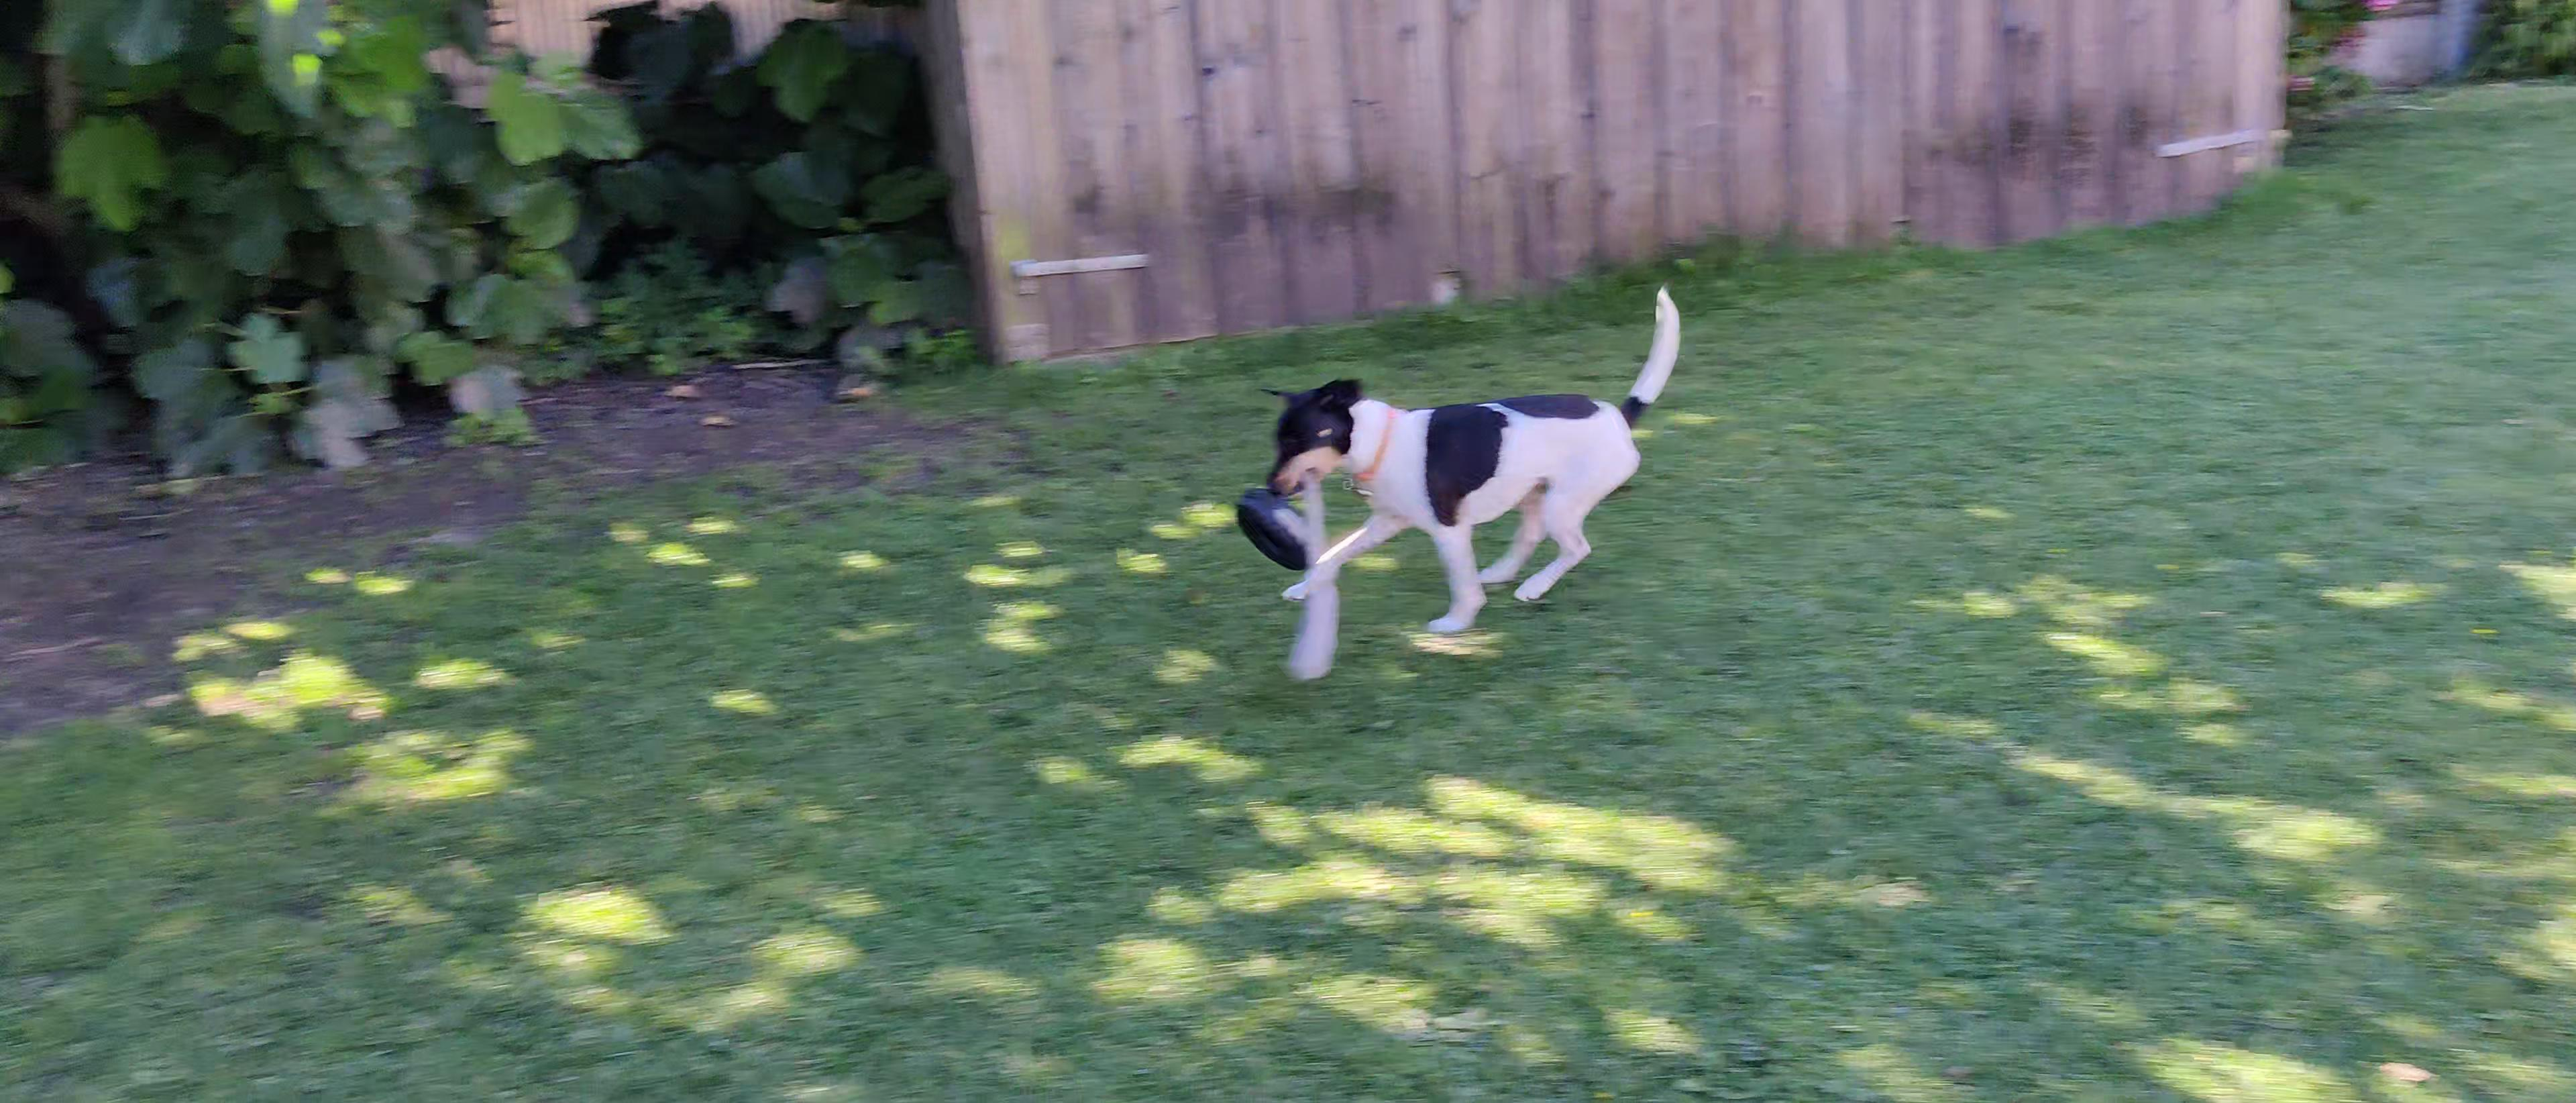Dog: (1255, 278, 1684, 644)
